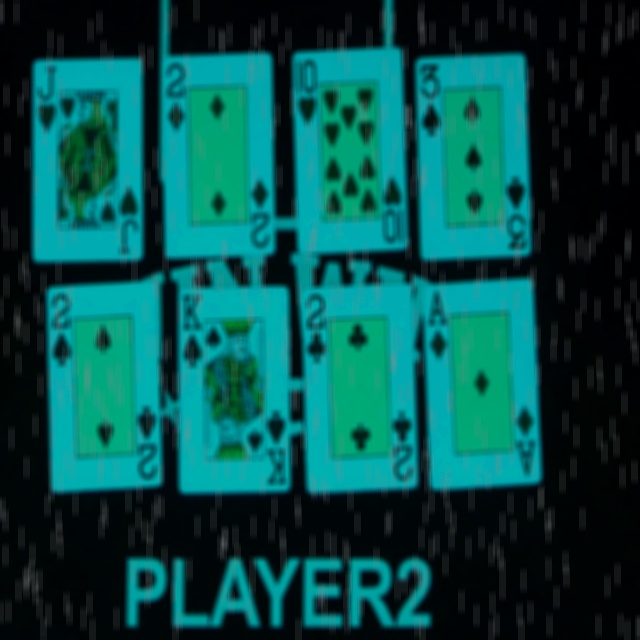10H: (293, 57, 319, 130), (382, 175, 406, 247)
2C: (298, 292, 329, 368), (390, 406, 418, 484)
2D: (161, 61, 188, 137), (248, 178, 274, 252)
2S: (46, 291, 73, 370), (134, 405, 161, 483)
3S: (415, 61, 445, 143), (504, 175, 531, 255)
AD: (513, 400, 540, 479), (425, 286, 451, 365)
JH: (32, 64, 58, 140), (117, 185, 142, 259)
KS: (263, 407, 290, 486), (179, 292, 204, 373)
